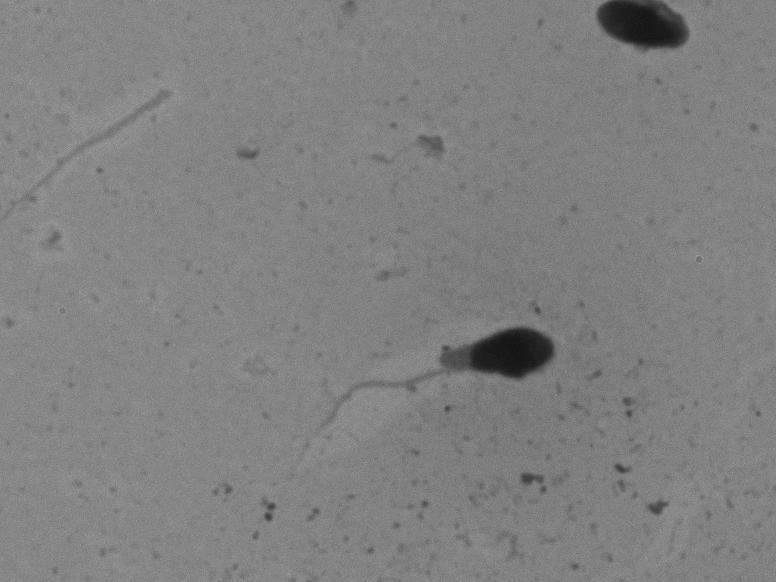Abnormal: (277, 295, 587, 491)
